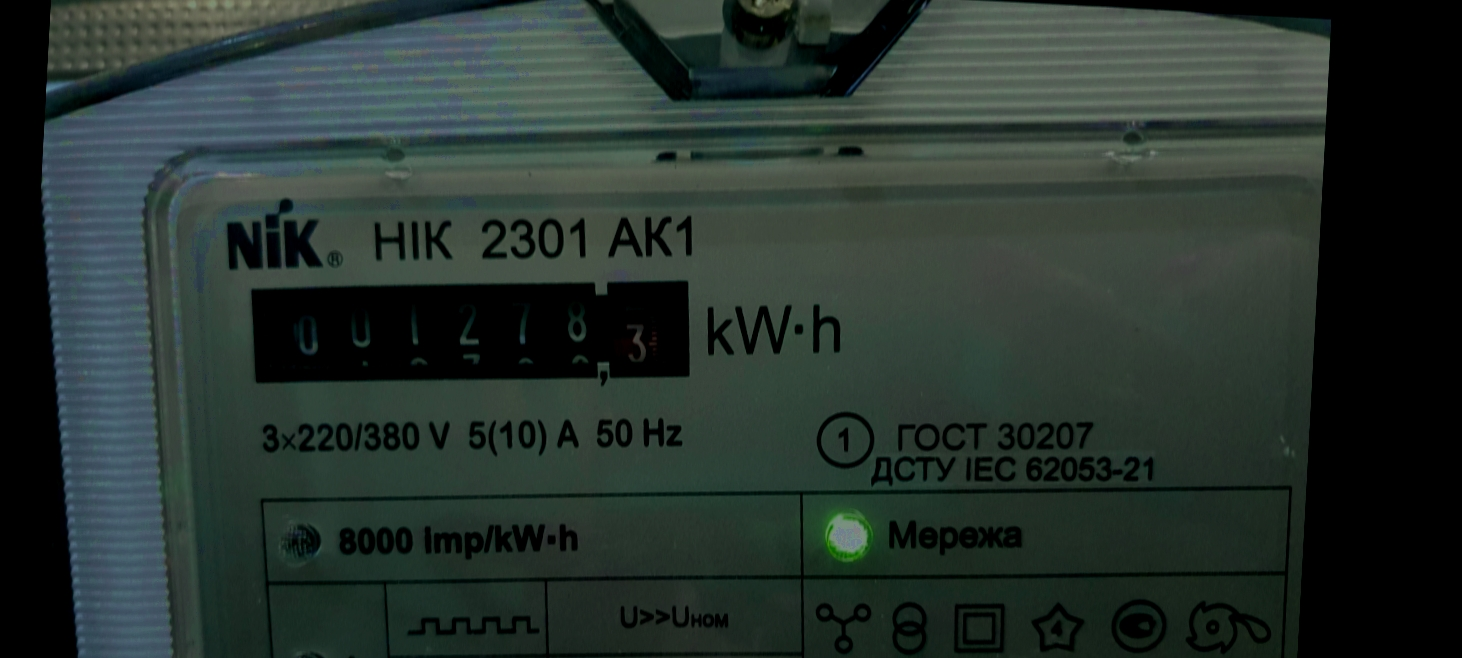0: (290, 308, 321, 357), (343, 302, 371, 349)
1: (402, 298, 422, 347)
2: (450, 298, 480, 346), (617, 292, 645, 314)
3: (619, 317, 647, 362)
7: (505, 296, 530, 346)
8: (560, 295, 587, 344)
screen: (224, 246, 708, 414)
